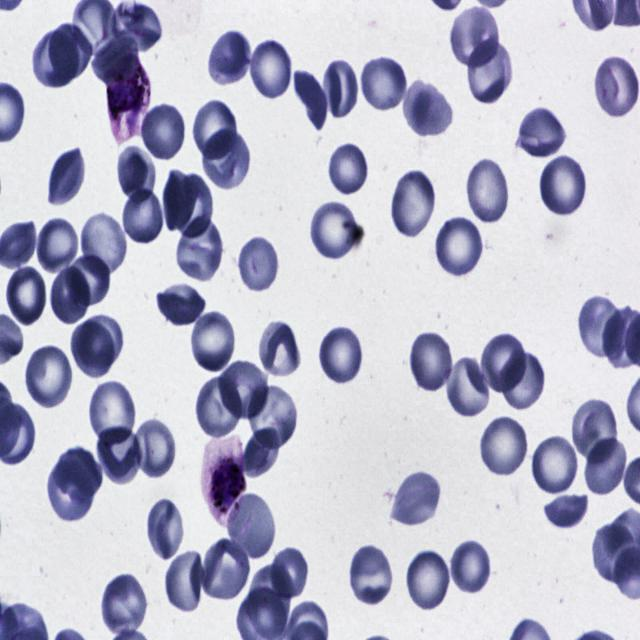red blood cell: (224, 491, 276, 564), (247, 383, 299, 454), (388, 167, 438, 240), (477, 413, 531, 479), (86, 377, 138, 445), (22, 343, 74, 410), (308, 198, 363, 261), (248, 562, 292, 640), (80, 210, 130, 278), (434, 213, 486, 278), (200, 130, 253, 193), (175, 216, 224, 284), (529, 431, 581, 495), (576, 292, 628, 356), (36, 25, 87, 90), (188, 306, 238, 372), (591, 54, 640, 121), (451, 6, 503, 69), (200, 535, 250, 600), (194, 373, 244, 438), (478, 330, 528, 395), (464, 157, 511, 226), (466, 40, 515, 106), (52, 444, 104, 506), (46, 454, 92, 524), (538, 153, 588, 217), (404, 78, 456, 139), (570, 396, 618, 462), (387, 469, 441, 527), (191, 96, 238, 162), (103, 566, 146, 638), (357, 53, 407, 114), (220, 357, 270, 418), (347, 542, 393, 608), (408, 328, 454, 394), (318, 322, 366, 385), (406, 547, 452, 612), (444, 354, 492, 416), (498, 348, 546, 410), (583, 433, 629, 497), (247, 36, 293, 100), (516, 103, 569, 158), (138, 102, 187, 160), (592, 518, 635, 584), (48, 22, 94, 82), (34, 217, 80, 276), (4, 265, 48, 326), (236, 234, 280, 295), (97, 426, 142, 485), (48, 266, 92, 326), (90, 34, 140, 86), (258, 320, 302, 379), (176, 172, 215, 238), (111, 0, 162, 50), (146, 497, 187, 559), (163, 550, 204, 612), (208, 29, 251, 88), (78, 314, 124, 369), (289, 69, 329, 132), (121, 188, 164, 246), (69, 322, 115, 375), (46, 147, 87, 206), (116, 144, 156, 204), (135, 420, 176, 478), (270, 542, 311, 600), (65, 254, 112, 304), (156, 283, 208, 327), (328, 142, 370, 196), (451, 539, 492, 594), (162, 168, 198, 230), (322, 58, 359, 117), (242, 427, 284, 476), (543, 492, 591, 530)
schizont: (198, 434, 249, 528)
trophozoite: (107, 49, 152, 144)
